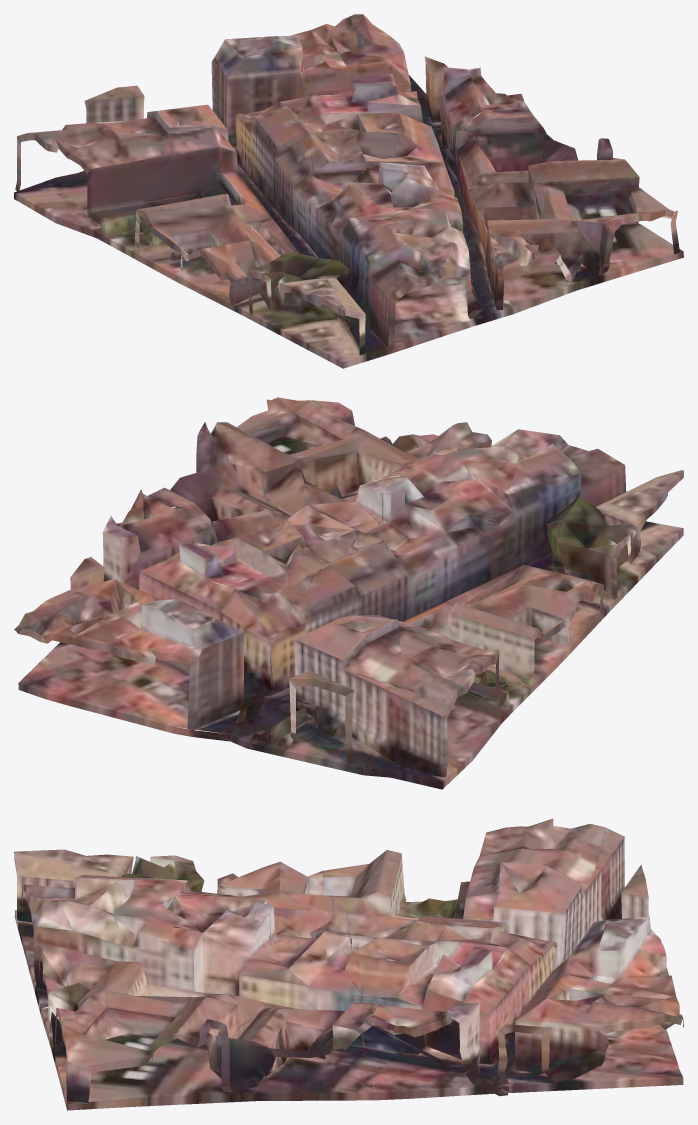
The picture shows the model from 3 angles, top to bottom: view 1: azimuth 30°, elevation 25°; view 2: azimuth 150°, elevation 25°; view 3: azimuth 270°, elevation 25°; orthographic projection. The views are drawn at different scales.
Visible parts, largest first — view 1: Mesh_0; view 2: Mesh_0; view 3: Mesh_0.
Boxes of the visible parts, <box> form: Mesh_0: <box>14,14,683,368</box>; Mesh_0: <box>14,397,683,789</box>; Mesh_0: <box>14,818,683,1110</box>.
Size of the model in its own units: 133 by 31.82 by 165.
Materials: 1 (1 with a texture image).
